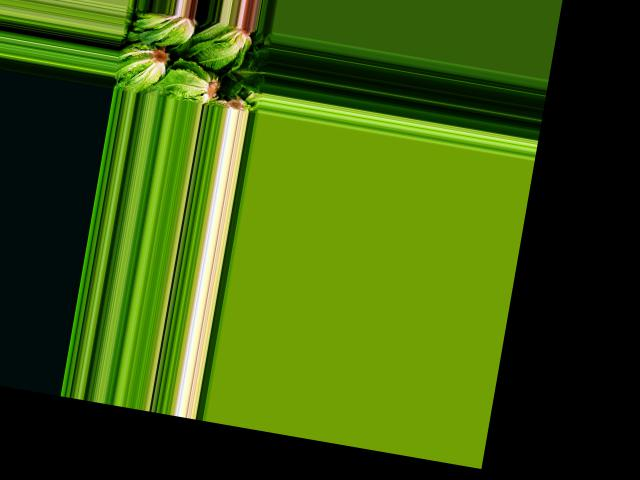lettuce: (228, 54, 269, 94)
